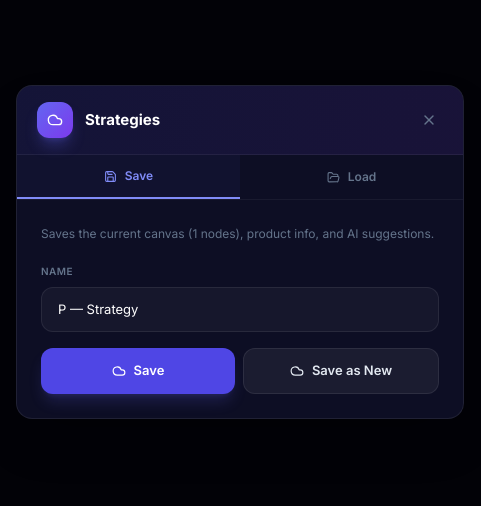
Scenario: StrategiesModal SaveTab - stale-write conflict (AUTH-004) › "Reload Latest" loads the server's current row and dismisses the conflict, discarding the local edit
This screenshot has width=481, height=506.
Click the button "Save" below "Name" at (138,371), box [41,348,235,394]
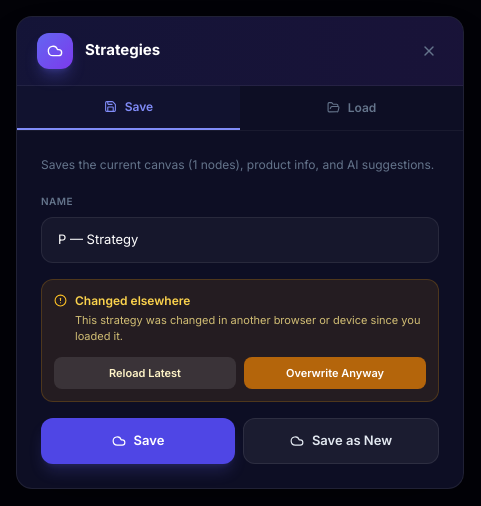
Now the text "Changed elsewhere" is shown, box [75,292,190,308]
Click the button "Reload Latest" at (145,373), box [54,356,236,389]
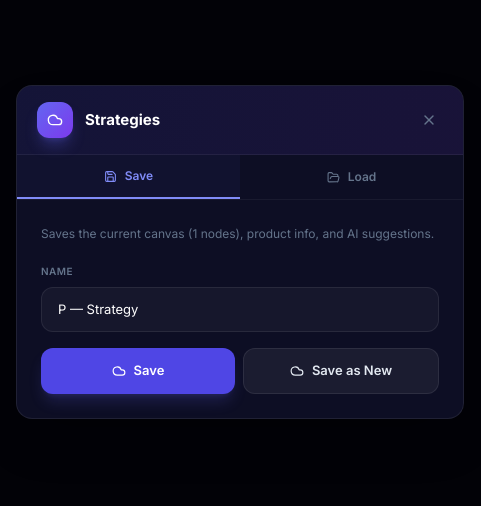
Now the text "Changed elsewhere" is gone
